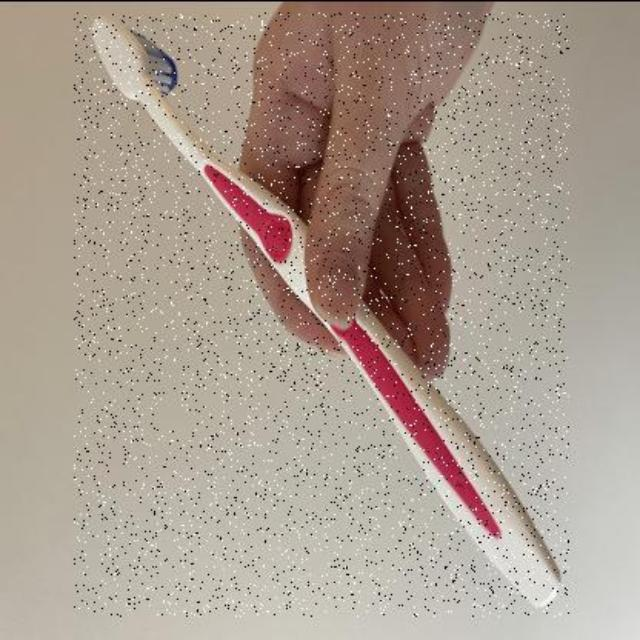toothbrush: (75, 11, 570, 615)
